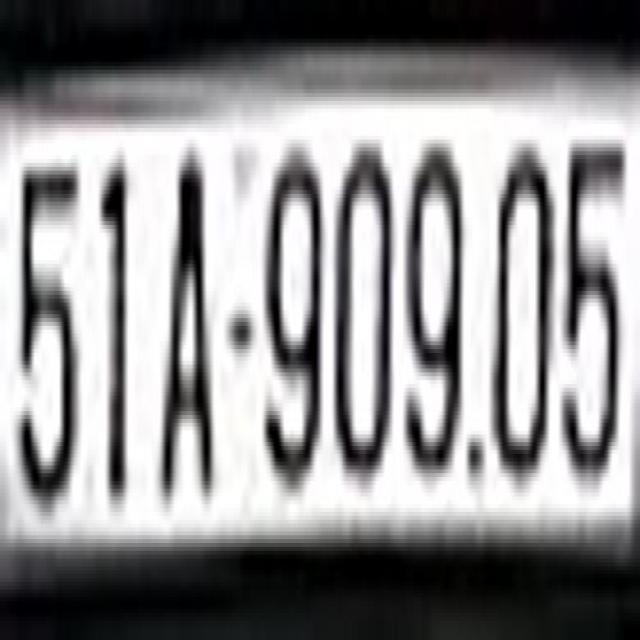0: (332, 143, 392, 481), (493, 132, 551, 477)
1: (91, 152, 135, 496)
5: (561, 140, 628, 484), (20, 143, 79, 504)
9: (400, 132, 462, 492), (265, 155, 322, 508)
A: (157, 132, 220, 504)
